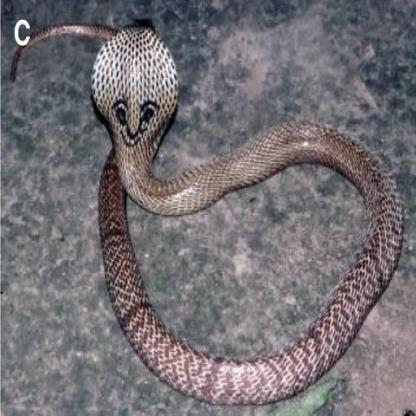Snake: (12, 21, 404, 406)
